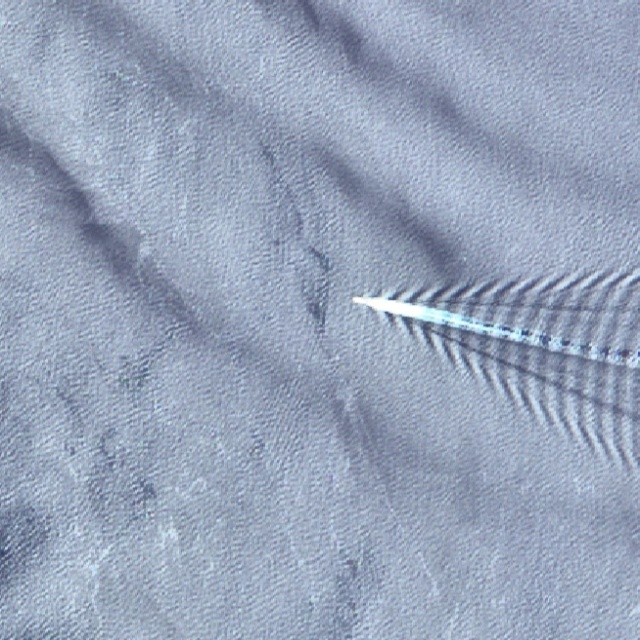wake: (339, 246, 608, 402)
